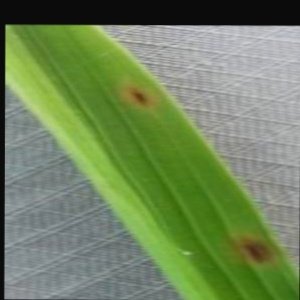Bacterial_Leaf_Blight: (234, 230, 279, 270), (122, 80, 157, 112)
